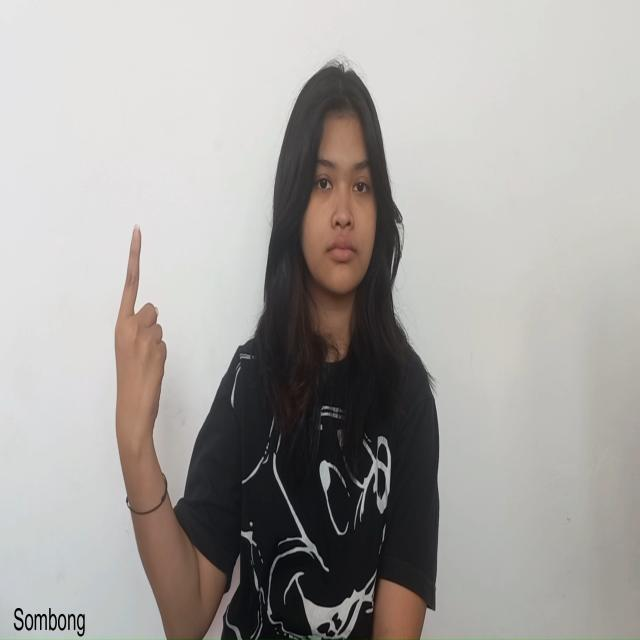Sombong -BISINDO-: (111, 221, 169, 471)
